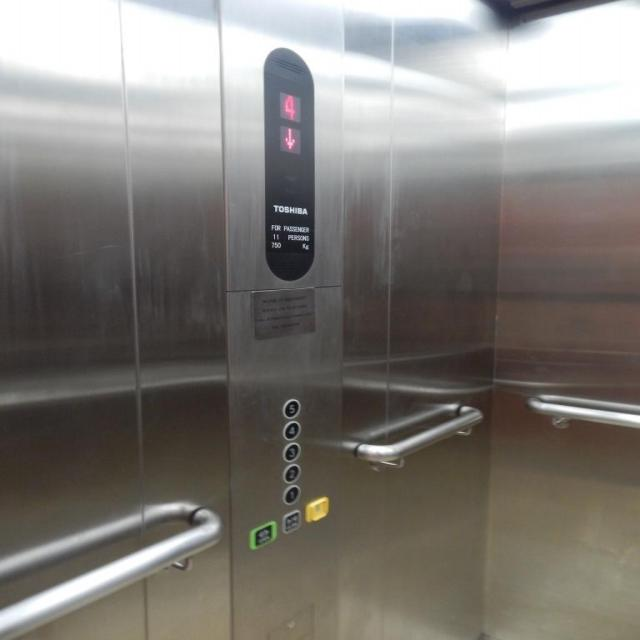1: (279, 484, 300, 505)
2: (280, 462, 301, 483)
3: (280, 441, 301, 462)
4: (280, 420, 302, 440)
5: (280, 396, 302, 419)
blur: (303, 494, 330, 524)
close: (280, 507, 302, 535)
led: (260, 43, 318, 284)
open: (246, 520, 277, 550)
